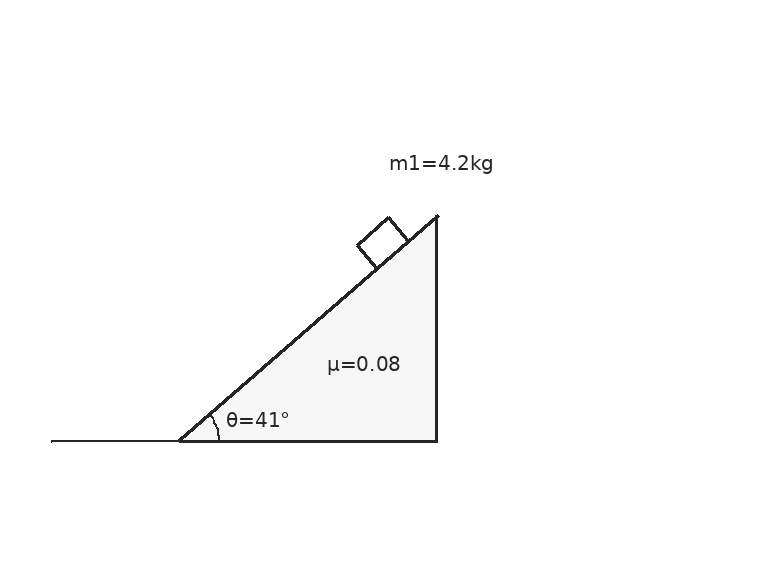block: (355, 216, 410, 270)
ramp: (177, 214, 439, 442)
